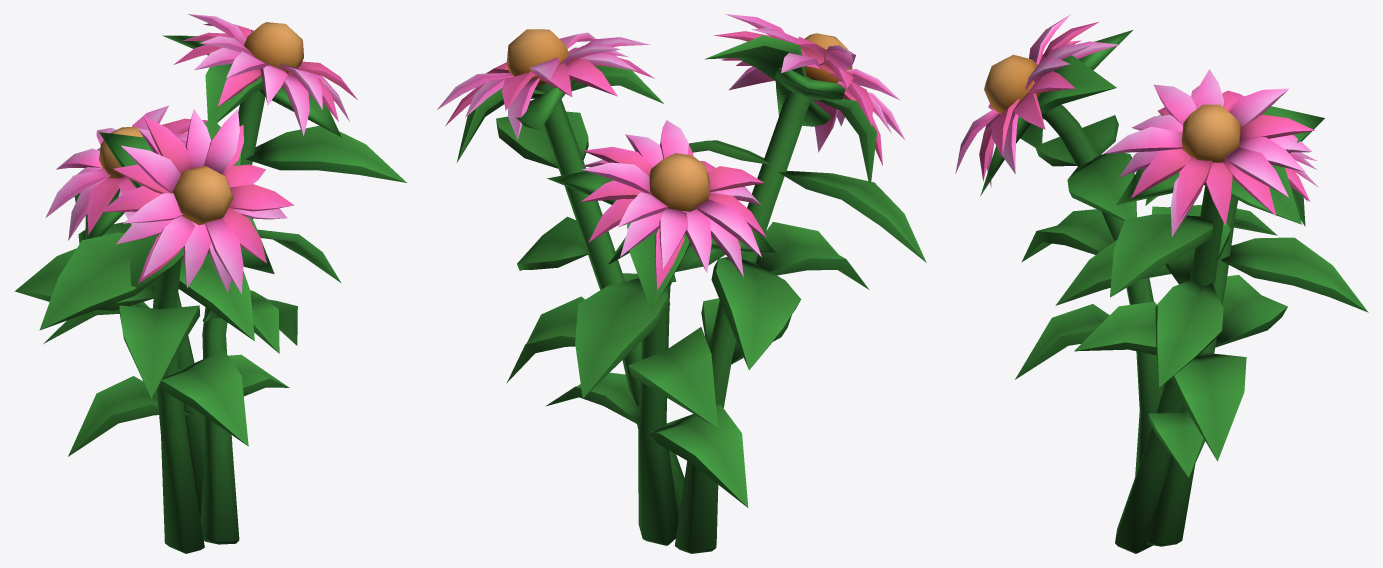
File: SM_Echinacea_A.fbx
3 renders of one model, left to right at view 1: azimuth 30°, elevation 25°; view 2: azimuth 150°, elevation 25°; view 3: azimuth 270°, elevation 25°, orthographic. The views are drawn at different scales.
Parts seen in each view (by area): view 1: SM_Echinacea_A; view 2: SM_Echinacea_A; view 3: SM_Echinacea_A.
Boxes of the visible parts, x1,y1,x2,y2 form: SM_Echinacea_A: (14,14,406,553); SM_Echinacea_A: (437,14,926,553); SM_Echinacea_A: (955,14,1368,553).
Size of the model in its own units: 29.89 by 35.55 by 27.2.
